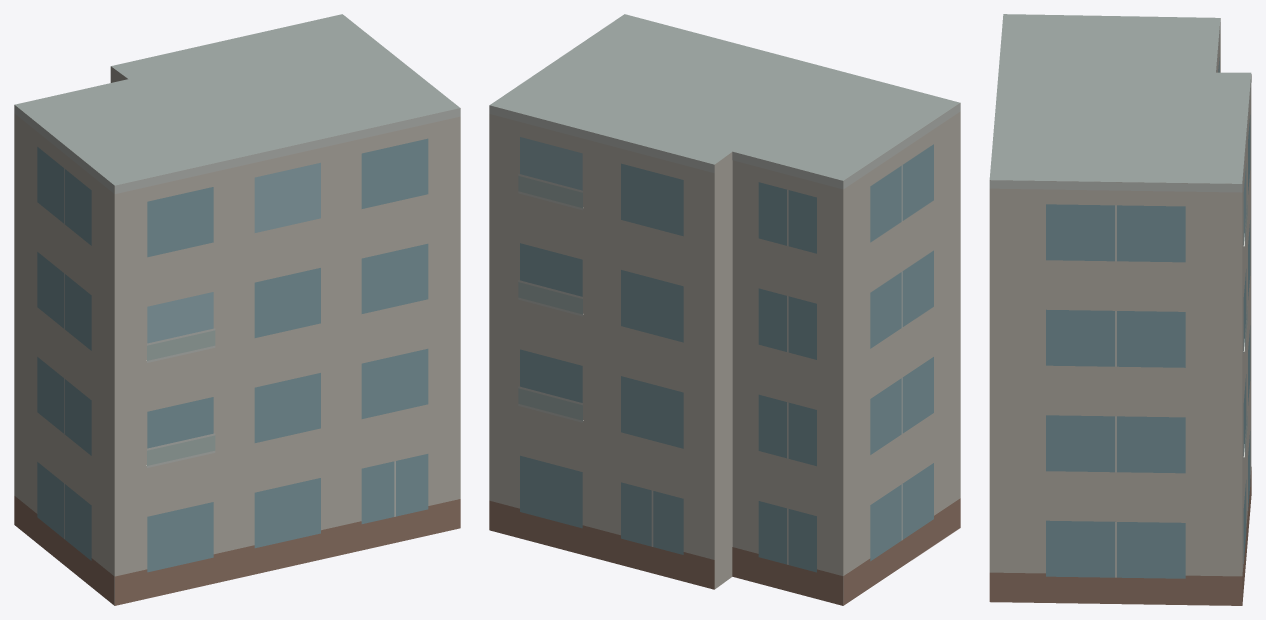
File: survey-upis-32563126.glb
The picture shows the model from 3 angles, left to right: view 1: azimuth 30°, elevation 25°; view 2: azimuth 150°, elevation 25°; view 3: azimuth 270°, elevation 25°; orthographic projection.
Parts seen in each view (by area): view 1: survey-upis-32563126.tmp; view 2: survey-upis-32563126.tmp; view 3: survey-upis-32563126.tmp.
Part boxes in pixels (box(x1,y1,x2,y2)): survey-upis-32563126.tmp: box(14, 14, 460, 605); survey-upis-32563126.tmp: box(489, 14, 960, 605); survey-upis-32563126.tmp: box(989, 14, 1251, 605).
Size of the model in its own units: 10.37 by 12 by 6.76.
